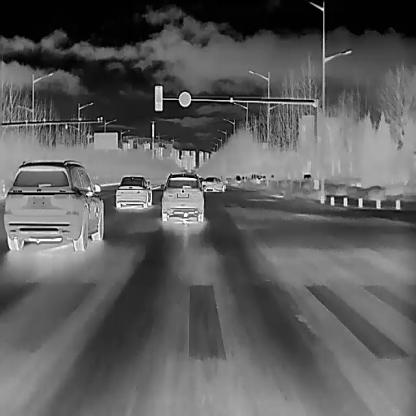car: (2, 159, 102, 251), (160, 170, 206, 221), (115, 175, 151, 207), (202, 175, 226, 190), (232, 174, 240, 183), (301, 173, 311, 179)
